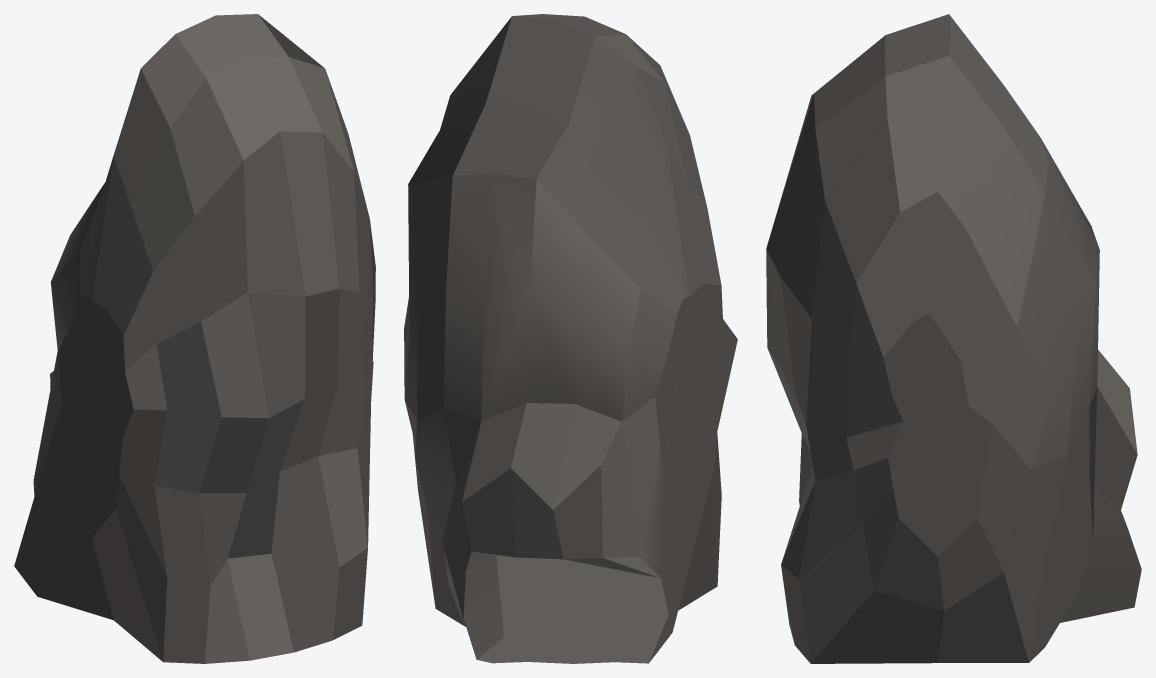
File: Rock_4.fbx
The picture shows the model from 3 angles, left to right: view 1: azimuth 30°, elevation 25°; view 2: azimuth 150°, elevation 25°; view 3: azimuth 270°, elevation 25°; orthographic projection. The views are drawn at different scales.
Visible parts, largest first — view 1: Rock_4; view 2: Rock_4; view 3: Rock_4.
Boxes of the visible parts, x1,y1,x2,y2 form: Rock_4: (14,14,375,663); Rock_4: (404,14,737,663); Rock_4: (766,14,1141,663).
Size of the model in its own units: 8.08 by 15.38 by 8.73.
Materials: 1 (1 with a texture image).
